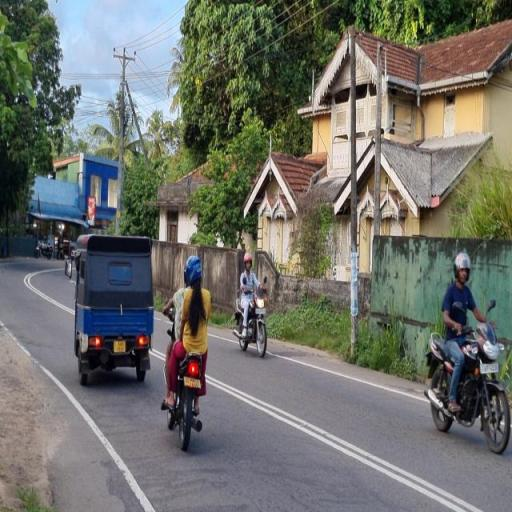double_white_line: (206, 377, 480, 512), (24, 267, 72, 315)
